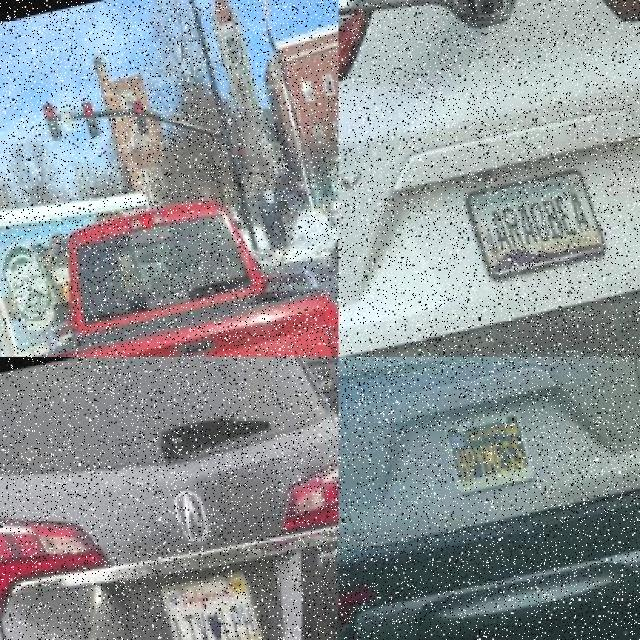licenseplate: (457, 165, 604, 281), (148, 549, 266, 640)
